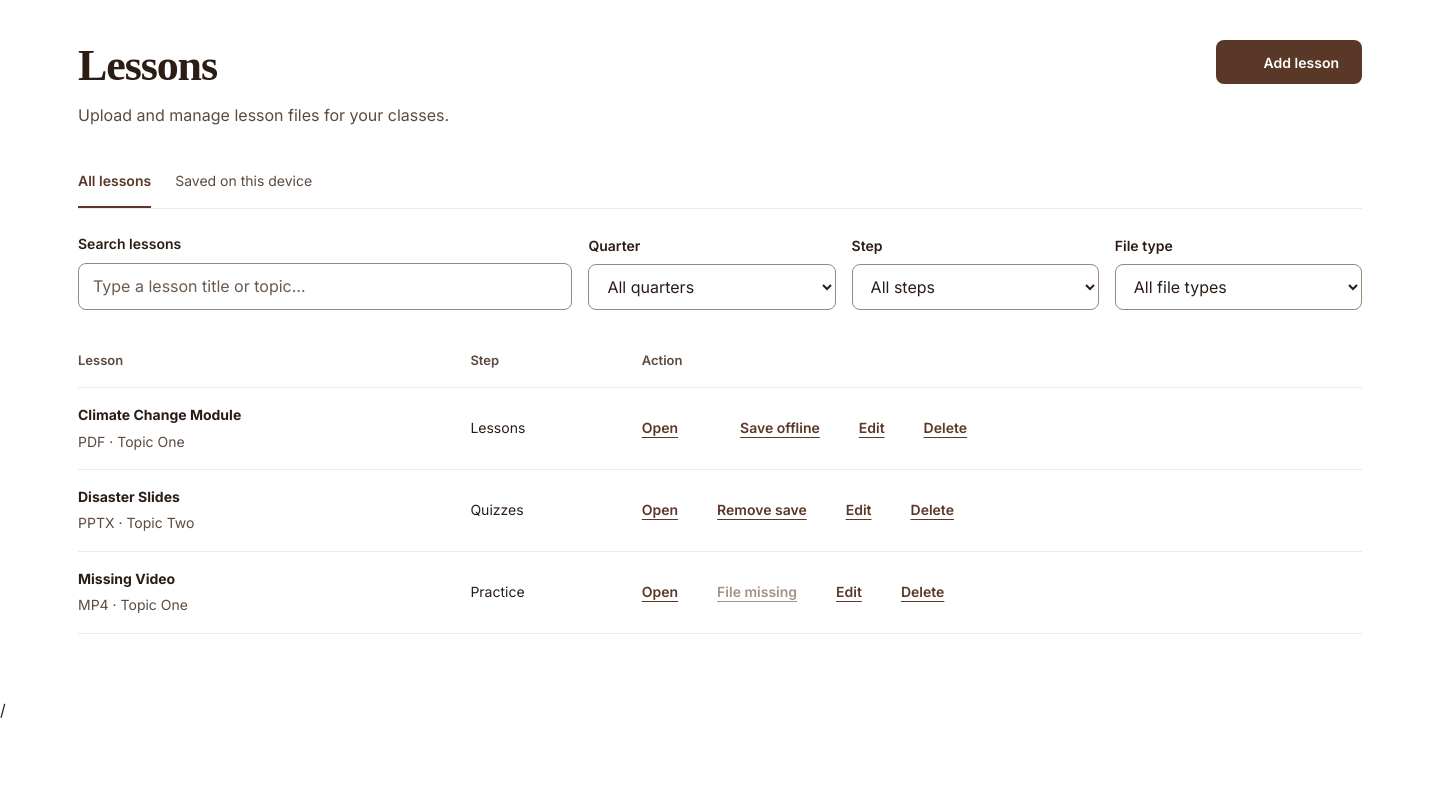
Test: MaterialsHub (teacher) › rejects an unsafe link without calling the API
Expected: the text "Climate Change Module" is shown, [78, 406, 241, 423]
Click the button "Add lesson": (1289, 62) [1216, 40, 1362, 84]
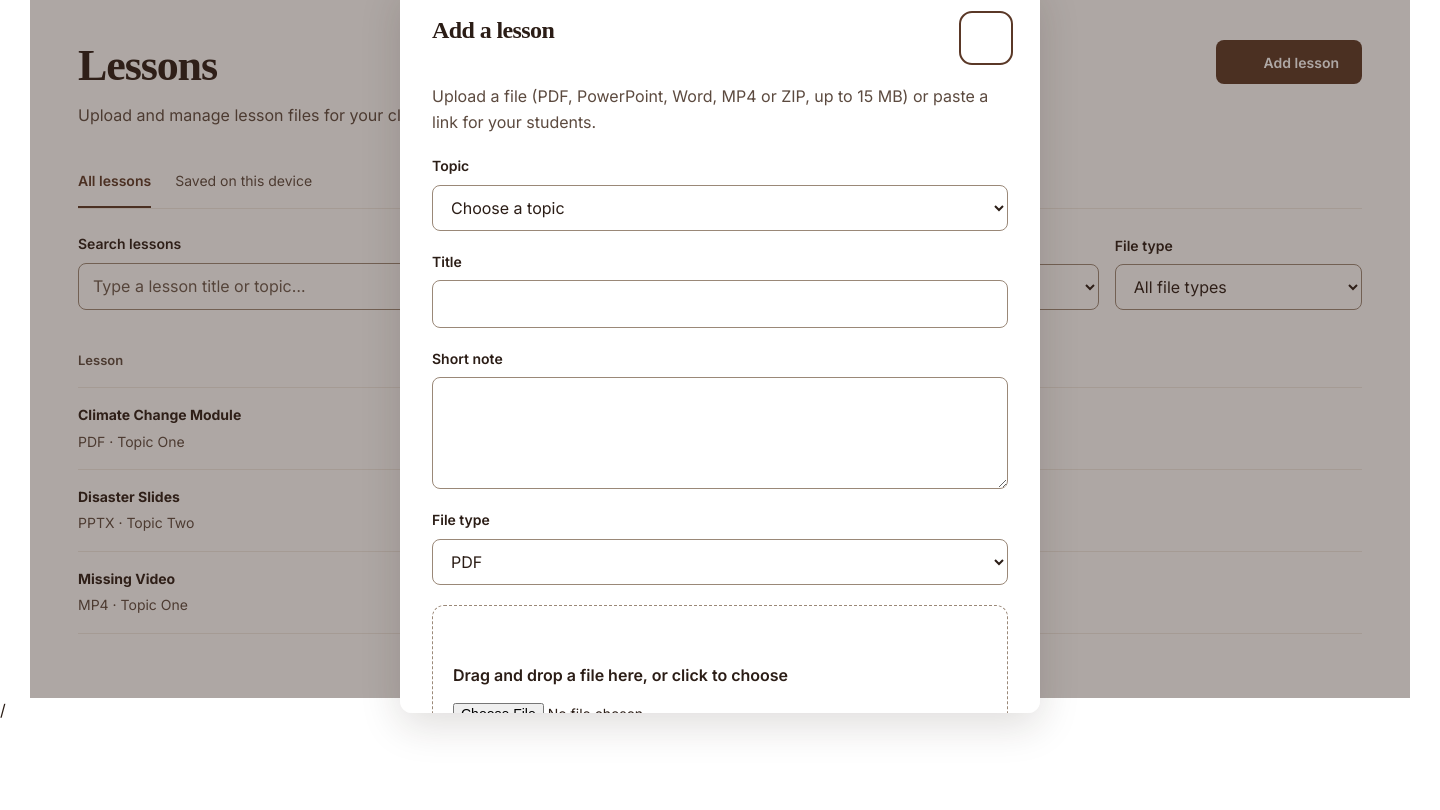
Select "AP10-1 · Desc one" in the dropdown labelled "Topic": (720, 208) [432, 185, 1008, 231]
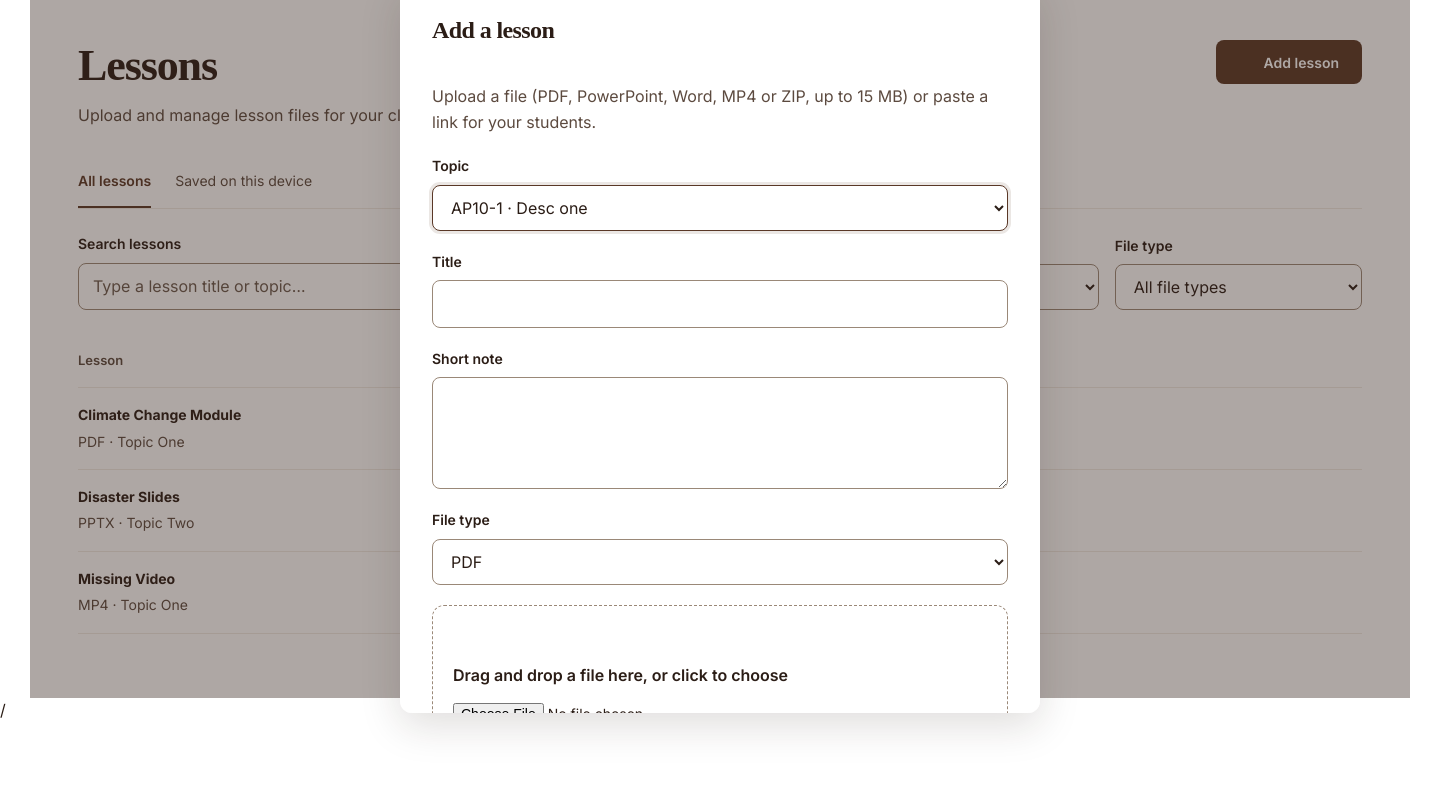
In the field labelled "Title": (720, 304) [432, 280, 1008, 328], type "Bad"
(page scrolled)
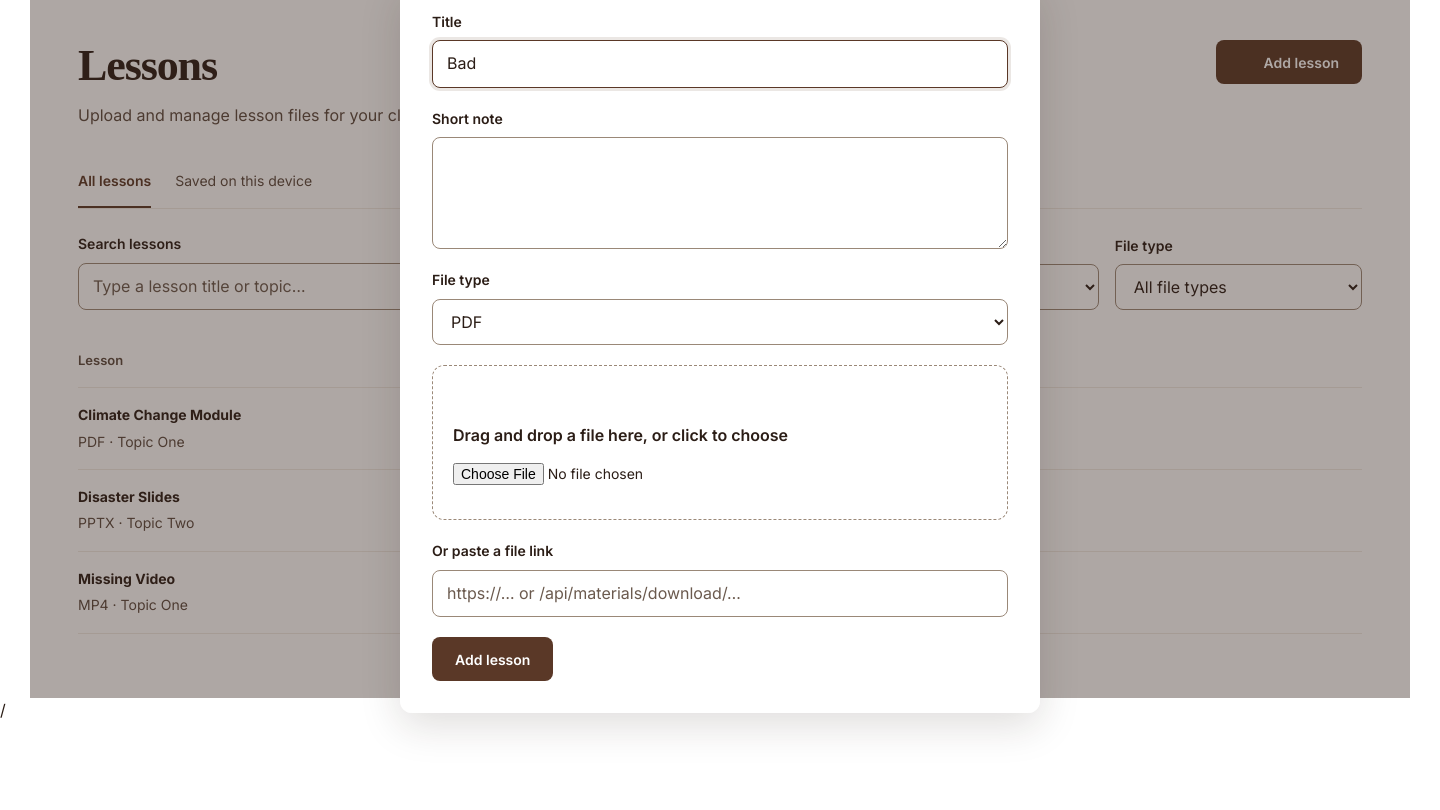
In the field labelled "Or paste a file link": (720, 593) [432, 570, 1008, 617], type "javascript:alert(1)"
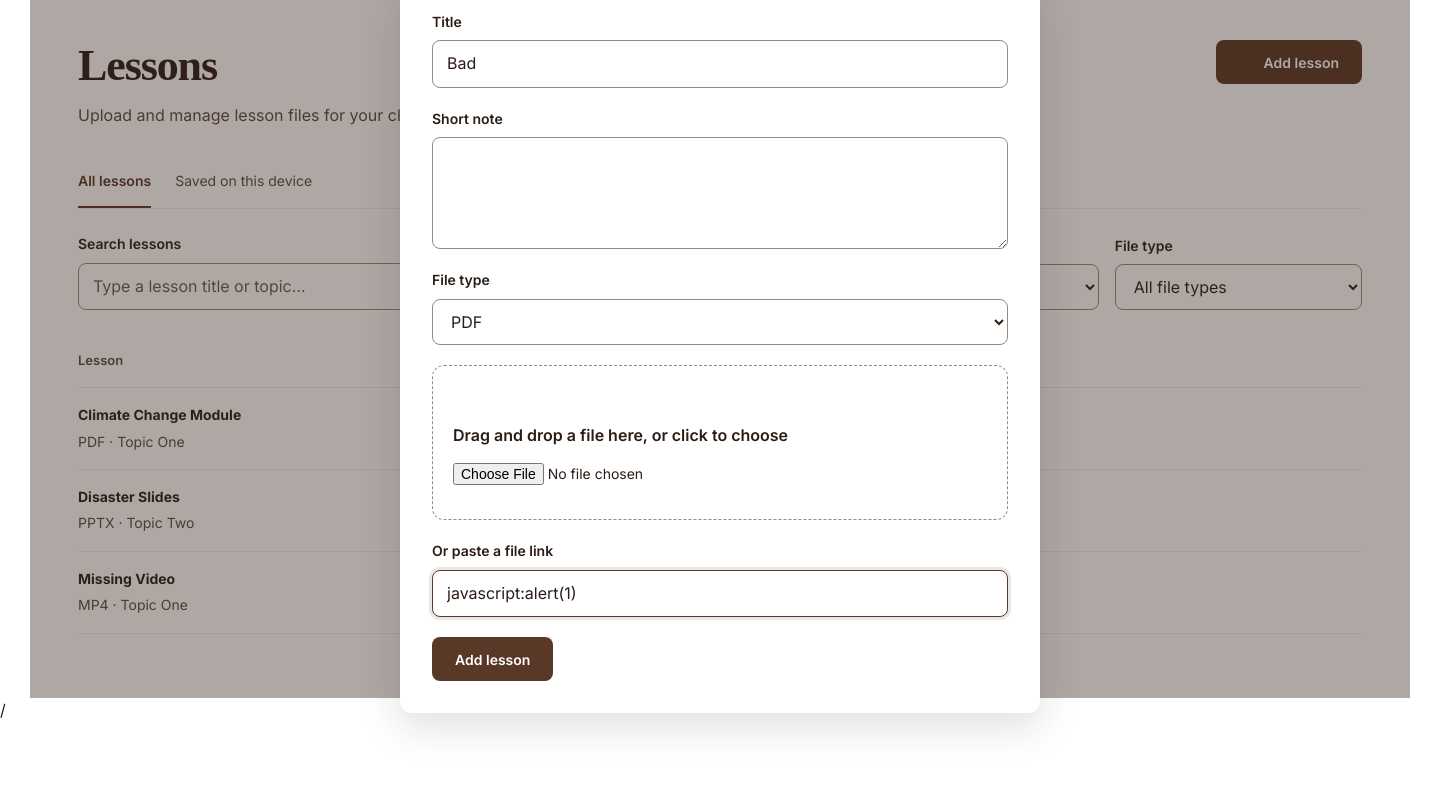
Click the button "Add lesson": (493, 659) [432, 637, 553, 681]
(page scrolled)
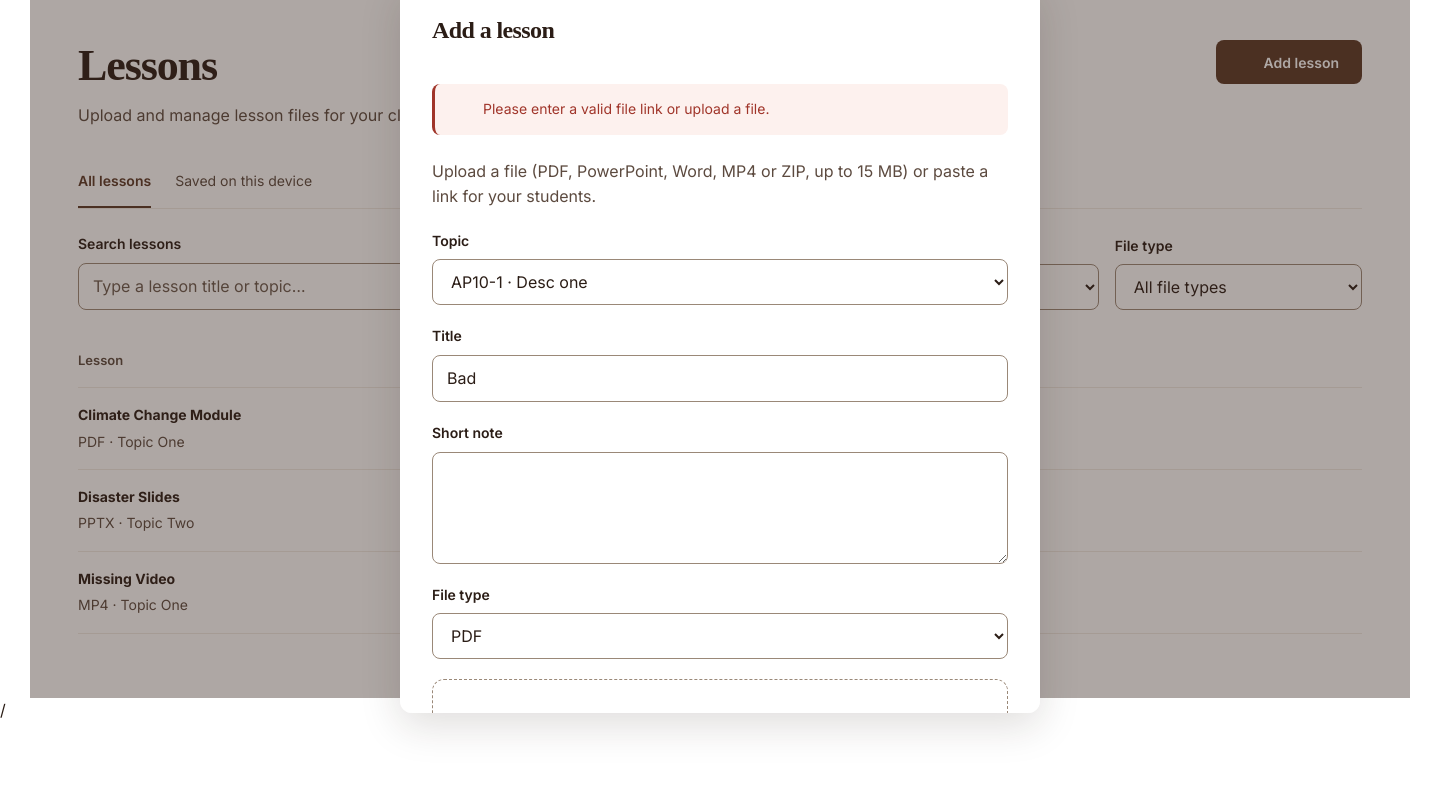
Expected: the message reads "Please enter a valid file link or upload a file.", [483, 100, 769, 117]
